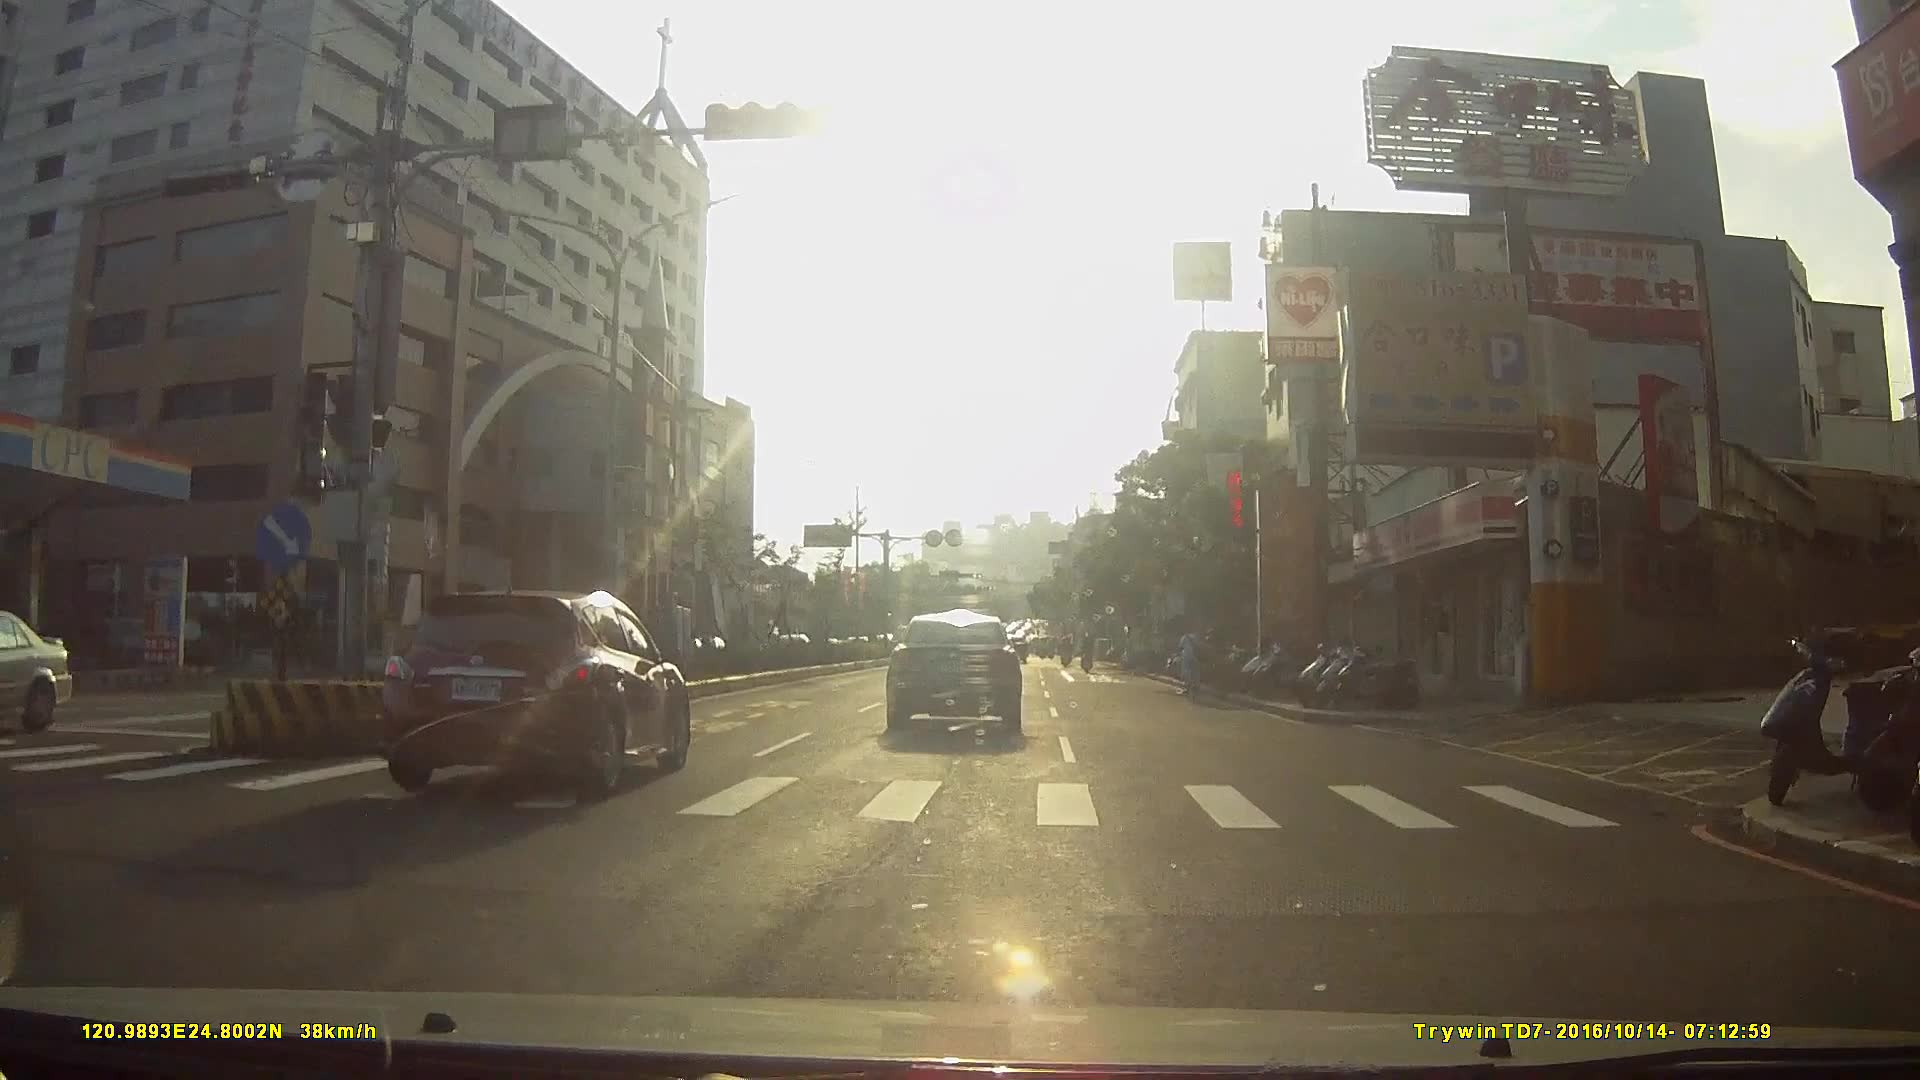rider: (1176, 621, 1207, 707)
vehicle: (369, 581, 702, 802), (882, 604, 1035, 739), (1, 608, 94, 737), (763, 607, 822, 662)
